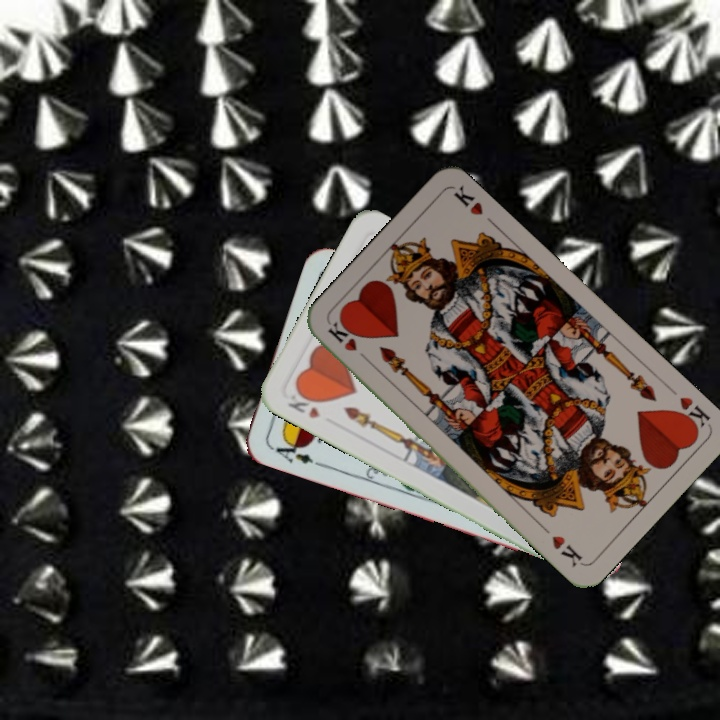EA: (267, 434, 325, 469)
HK: (324, 317, 373, 366), (669, 392, 713, 436), (283, 386, 324, 421)
